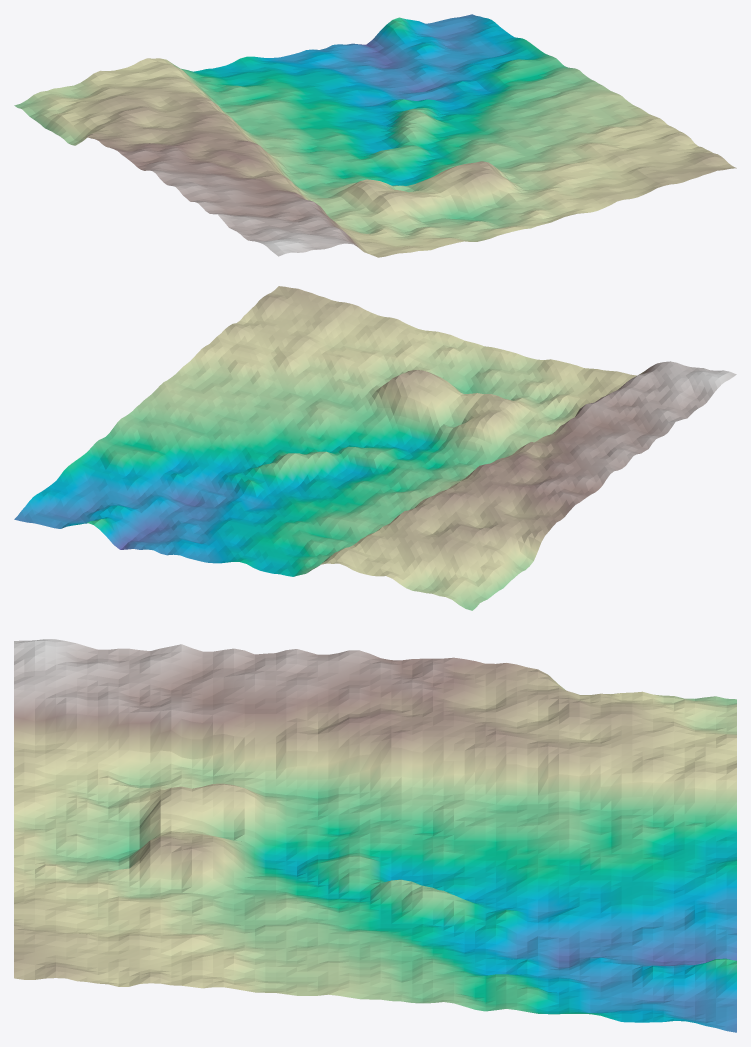
File: 002447_terrain_only.glb
3 views of the same model, one above another, from view 1: azimuth 30°, elevation 25°; view 2: azimuth 150°, elevation 25°; view 3: azimuth 270°, elevation 25° (orthographic). The views are drawn at different scales.
Visible parts, largest first — view 1: terrain; view 2: terrain; view 3: terrain.
Part boxes in pixels (box(x1,y1,x2,y2)): terrain: box(14, 14, 736, 257); terrain: box(14, 286, 736, 610); terrain: box(14, 639, 736, 1032).
Size of the model in its own units: 0.0186 by 0.00276 by 0.0186.
